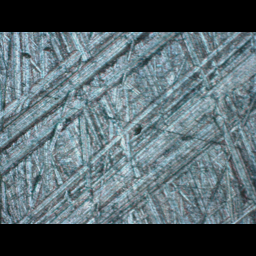d: (0, 33, 250, 223)
